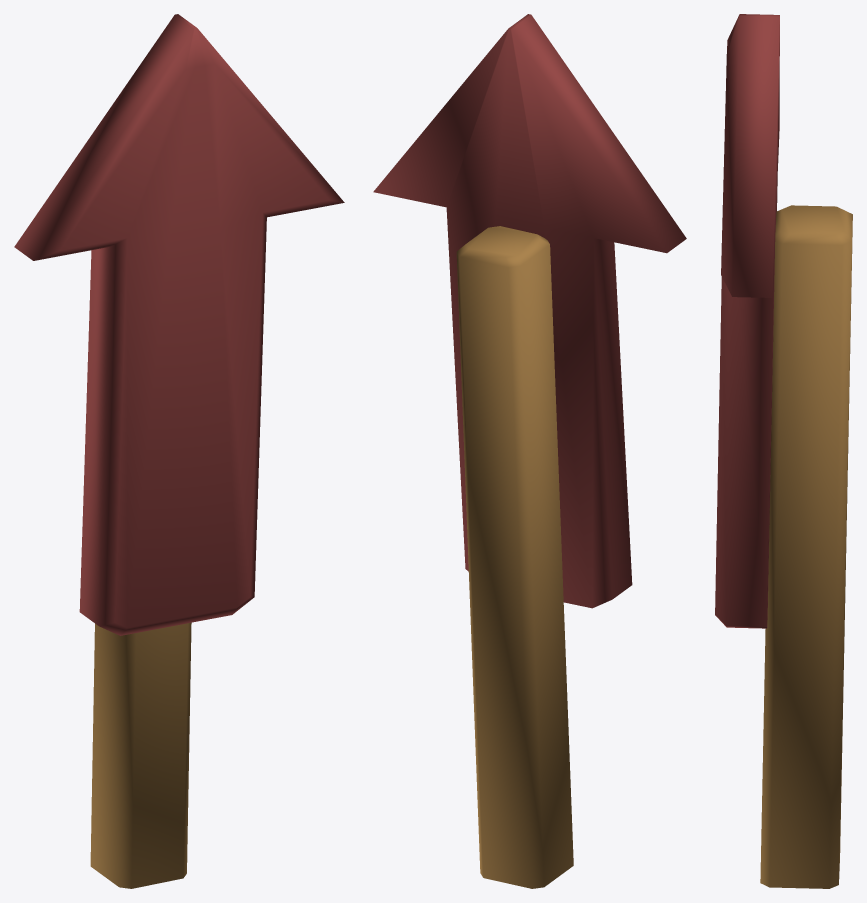
The model's file is grassblock_with_tree.gltf.
3 renders of one model, left to right at view 1: azimuth 30°, elevation 25°; view 2: azimuth 150°, elevation 25°; view 3: azimuth 270°, elevation 25°, orthographic. The views are drawn at different scales.
Visible parts, largest first — view 1: grassblock_with_tree; view 2: grassblock_with_tree; view 3: grassblock_with_tree.
Boxes of the visible parts, x1=… form: grassblock_with_tree: x1=14, y1=14, x2=344, y2=888; grassblock_with_tree: x1=373, y1=14, x2=686, y2=888; grassblock_with_tree: x1=715, y1=14, x2=852, y2=888.
Bounding box in the file's own units: 1.02 × 2.71 × 0.3888.
